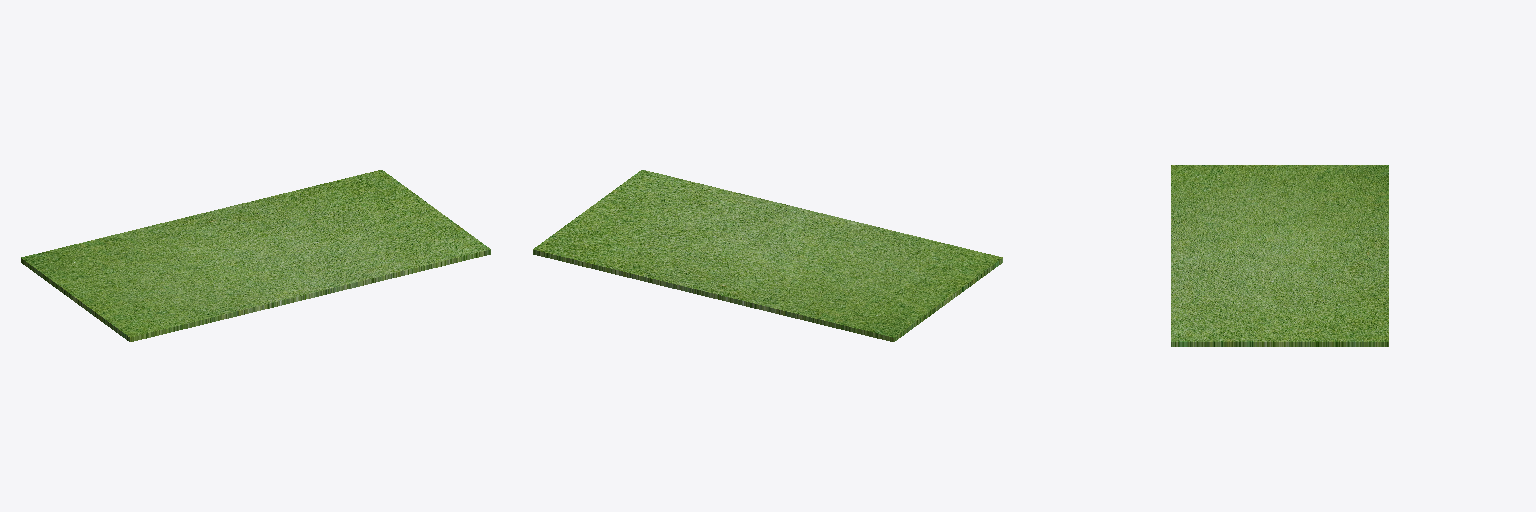
3 renders of one model, left to right at view 1: azimuth 30°, elevation 25°; view 2: azimuth 150°, elevation 25°; view 3: azimuth 270°, elevation 25°, orthographic.
Parts seen in each view (by area): view 1: Pasto; view 2: Pasto; view 3: Pasto.
Part boxes in pixels (x1,y1,x2,y2): Pasto: (21,170,490,341); Pasto: (533,170,1002,341); Pasto: (1171,165,1388,346).
Bounding box in the file's own units: 76 × 0.9802 × 39.85.
1 materials, 1 textured.